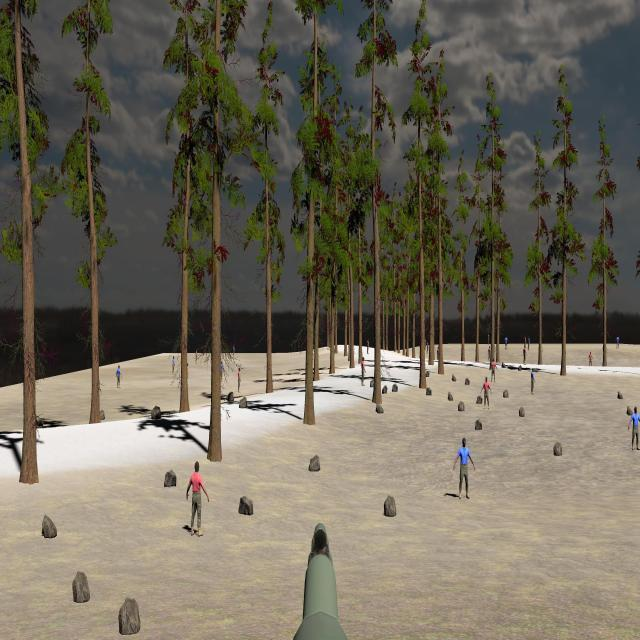Human: (186, 461, 210, 536), (453, 437, 475, 499), (629, 407, 640, 451), (481, 376, 492, 409)
